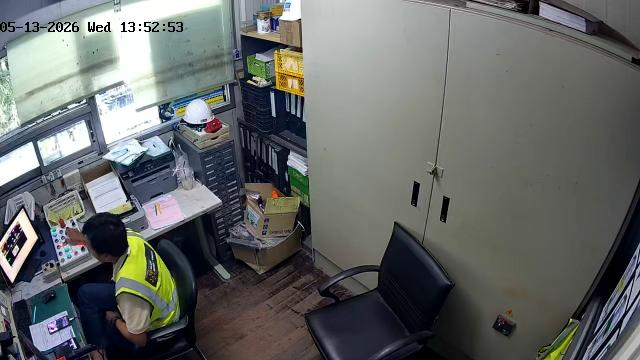Head: (82, 213, 128, 263)
People: (68, 213, 178, 358)
Phone: (54, 338, 80, 358), (47, 316, 69, 333)
